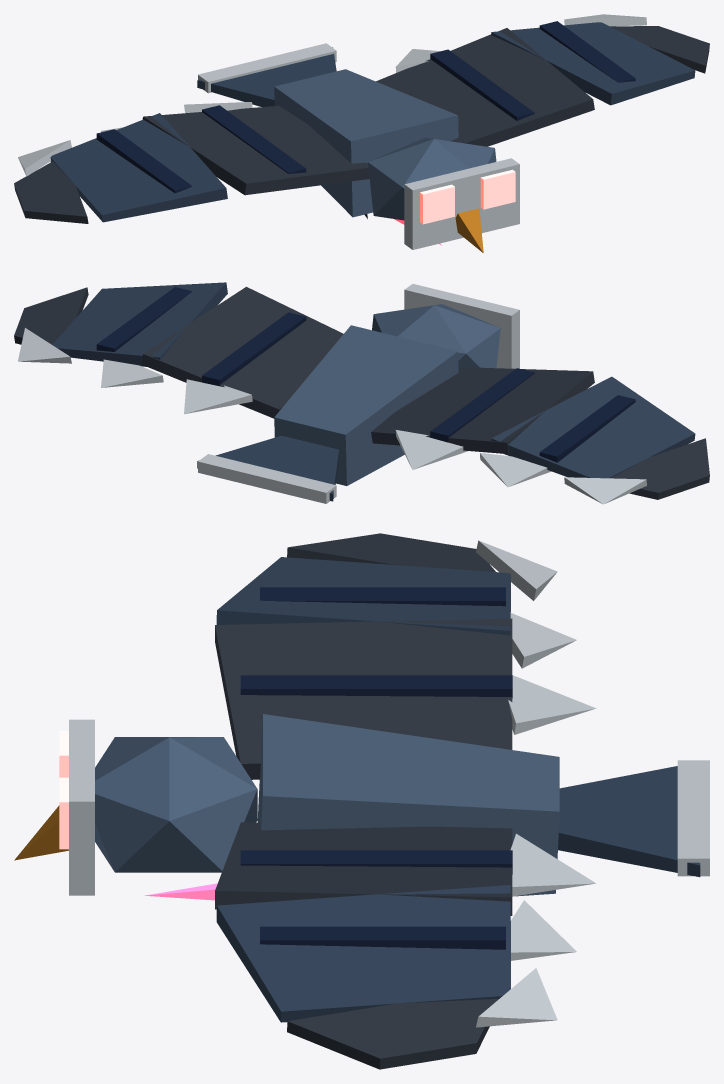
The model's file is wasp.glb.
3 views of the same model, one above another, from view 1: azimuth 30°, elevation 25°; view 2: azimuth 150°, elevation 25°; view 3: azimuth 270°, elevation 25° (orthographic). The views are drawn at different scales.
Parts seen in each view (by area): view 1: IWaspHull, IWaspGlow; view 2: IWaspHull; view 3: IWaspHull, IWaspGlow.
Part boxes in pixels (bbox=[...]): IWaspHull: bbox=[14, 14, 709, 252]; IWaspGlow: bbox=[394, 169, 515, 245]; IWaspHull: bbox=[14, 282, 709, 504]; IWaspHull: bbox=[14, 533, 709, 1069]; IWaspGlow: bbox=[59, 731, 217, 900].
Size of the model in its own units: 1.92 by 0.28 by 1.07.
